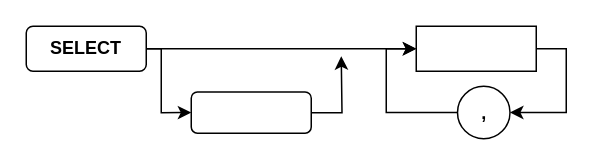
The diagram is 605 pixels wide and 165 high, and some of its shapes have lost their labels. The shapes that lost their labels are listed below. From the top down, each one's centre as x and y in pixels, then its label:
At (x=475, y=48): "columnname".
At (x=250, y=111): "DISTINCT".
